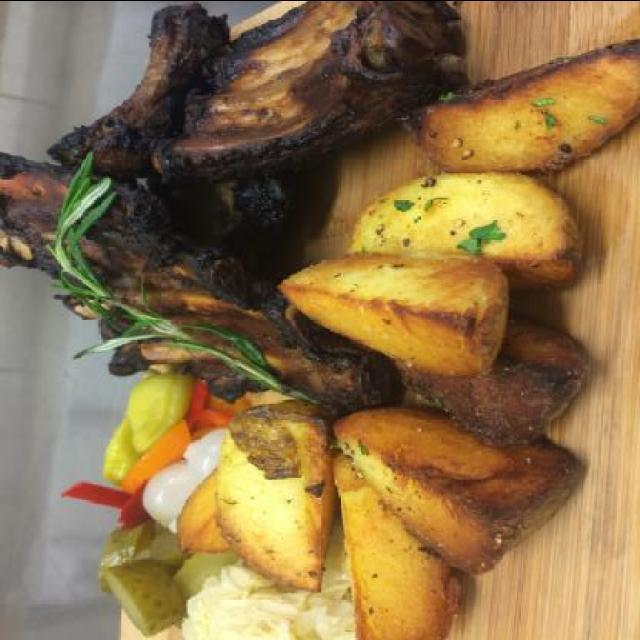Potato: (175, 37, 639, 640)
